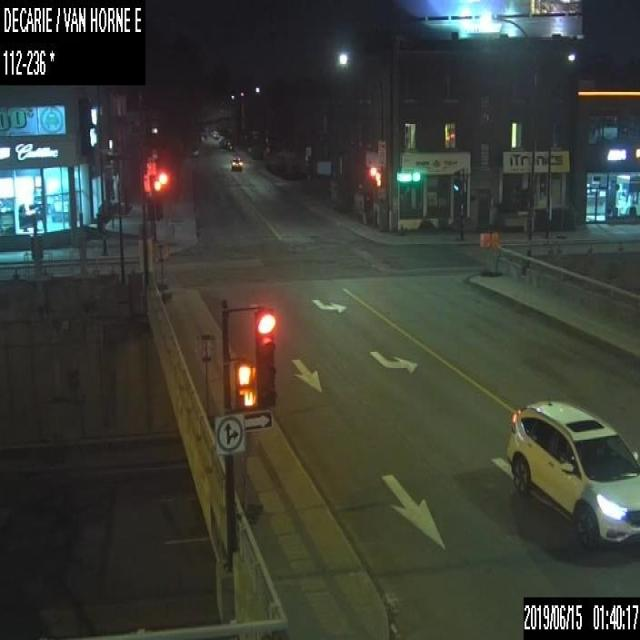construction: (234, 427, 263, 522), (197, 332, 219, 426), (153, 236, 170, 302), (488, 230, 500, 276), (478, 231, 488, 275)
vehicle: (506, 398, 639, 550), (230, 157, 243, 171), (224, 138, 232, 150)
